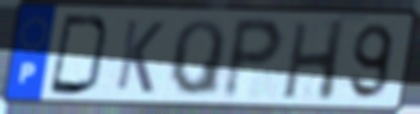9: (348, 22, 397, 101)
D: (46, 12, 114, 98)
H: (280, 18, 349, 104)
K: (112, 17, 167, 96)
P: (219, 15, 288, 102)
Q: (167, 18, 227, 99)
